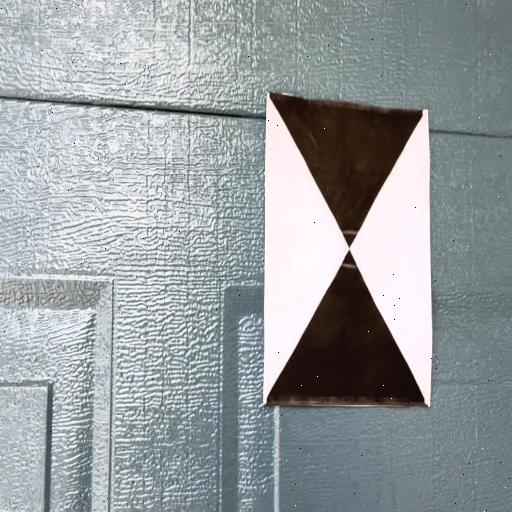target: (264, 93, 431, 406)
